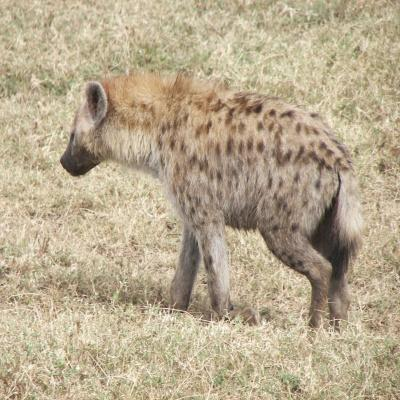hyenas: (28, 69, 400, 323)
